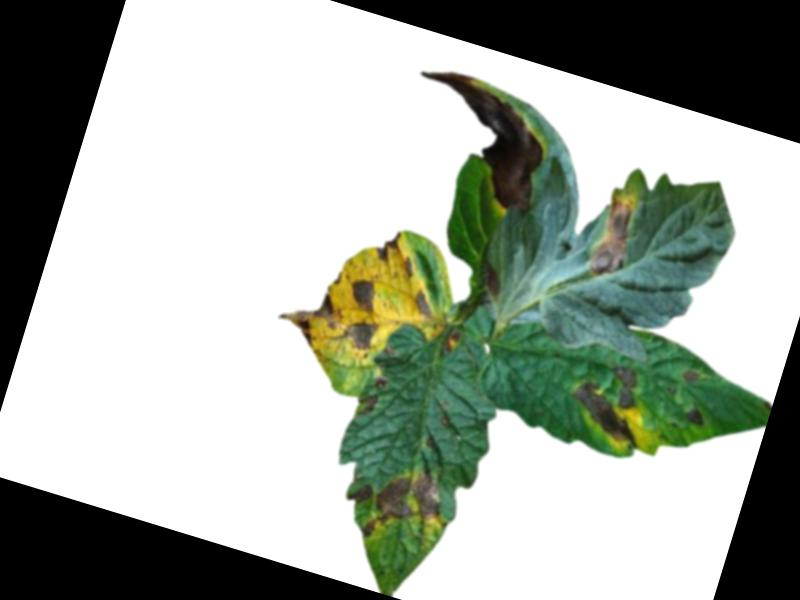Early_blight: (389, 61, 559, 217), (358, 453, 452, 557), (562, 352, 660, 449), (267, 278, 347, 352), (583, 187, 643, 283), (338, 314, 381, 356), (343, 274, 383, 316), (354, 370, 386, 422), (374, 224, 405, 265), (346, 478, 374, 509), (410, 287, 437, 316), (397, 252, 420, 280), (685, 404, 707, 427), (442, 328, 460, 352), (681, 364, 700, 383)
